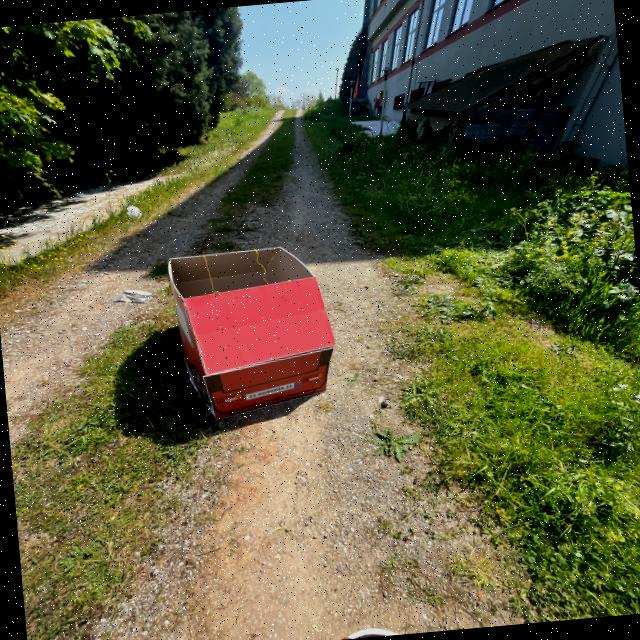red_car: (148, 234, 363, 439)
